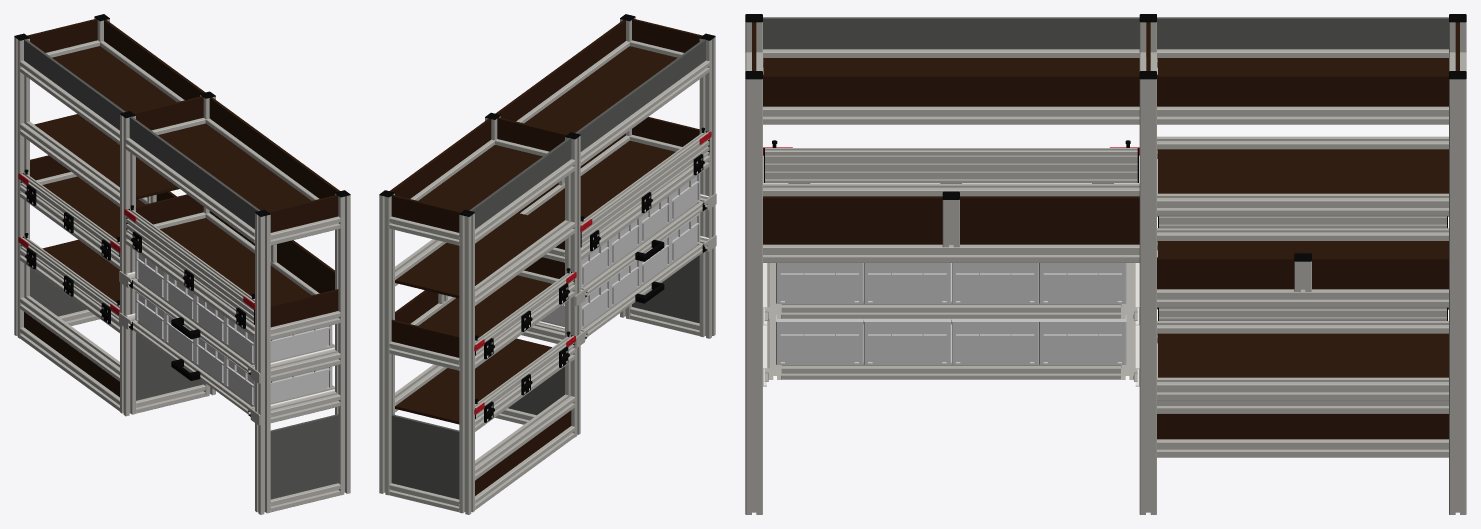
3 renders of one model, left to right at view 1: azimuth 30°, elevation 25°; view 2: azimuth 150°, elevation 25°; view 3: azimuth 270°, elevation 25°, orthographic. The views are drawn at different scales.
Parts seen in each view (by area): view 1: n0, n14, n38, n28, n20, n30, n2, n8, n32, n36, n22, n24 (+2 smaller); view 2: n0, n14, n30, n20, n2, n8, n32, n38, n34, n22, n26, n28 (+2 smaller); view 3: n0, n14, n30, n20, n32, n34, n36, n38, n8, n2, n22, n24 (+2 smaller).
Boxes of the visible parts, x1,y1,x2,y2 form: n0: (14, 14, 350, 514); n14: (124, 208, 255, 324); n38: (225, 356, 332, 406); n28: (225, 317, 332, 365); n20: (119, 271, 334, 383); n30: (119, 312, 334, 425); n2: (18, 173, 120, 256); n8: (18, 236, 119, 319); n32: (135, 290, 165, 340); n36: (195, 337, 225, 384); n22: (135, 251, 165, 299); n24: (165, 273, 195, 321); n0: (379, 14, 715, 514); n14: (580, 131, 711, 247); n30: (540, 235, 716, 348); n20: (575, 193, 716, 306); n2: (474, 271, 576, 355); n8: (474, 335, 575, 418); n32: (541, 279, 610, 329); n38: (670, 213, 700, 263); n34: (610, 260, 640, 307); n22: (580, 239, 610, 287); n26: (640, 195, 670, 243); n28: (670, 173, 700, 221); n0: (745, 14, 1466, 514); n14: (763, 147, 1139, 182); n30: (764, 315, 1137, 381); n20: (764, 263, 1137, 320); n32: (1039, 315, 1126, 364); n34: (951, 318, 1038, 364); n36: (863, 318, 950, 364); n38: (776, 315, 863, 364); n8: (1157, 307, 1448, 320); n2: (1157, 216, 1448, 228); n22: (1039, 263, 1126, 303); n24: (951, 263, 1038, 303).
Size of the model in its own units: 389 by 1103 by 1650.
